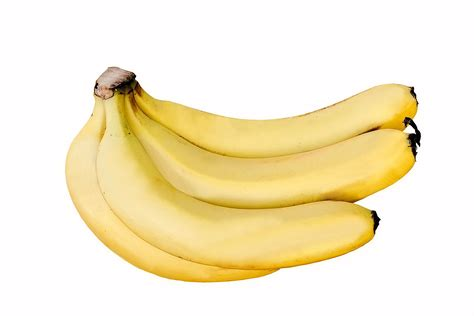banana: (90, 129, 382, 271), (132, 111, 421, 206), (144, 81, 420, 157)
